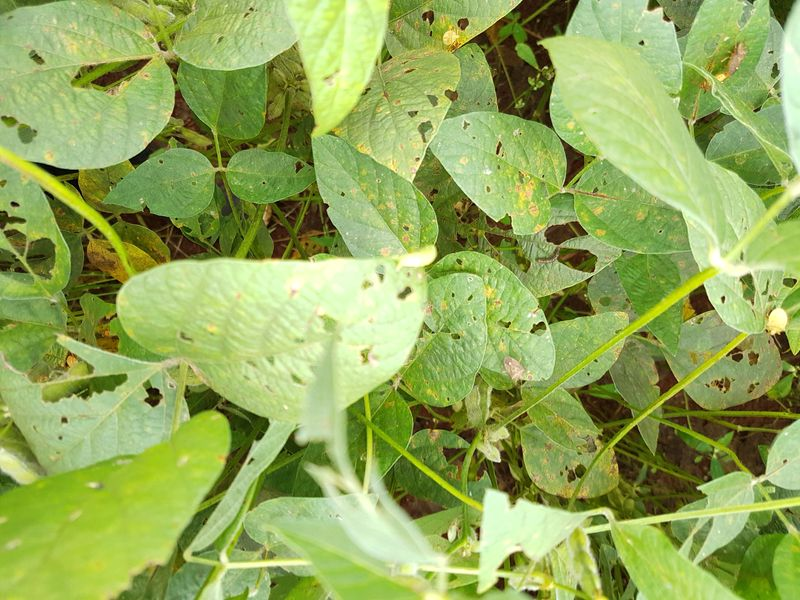Euschistus_heros_adulto: (493, 348, 534, 389), (725, 34, 759, 76)
Euschistus_heros_ninfa: (758, 296, 795, 344), (433, 20, 467, 55)
